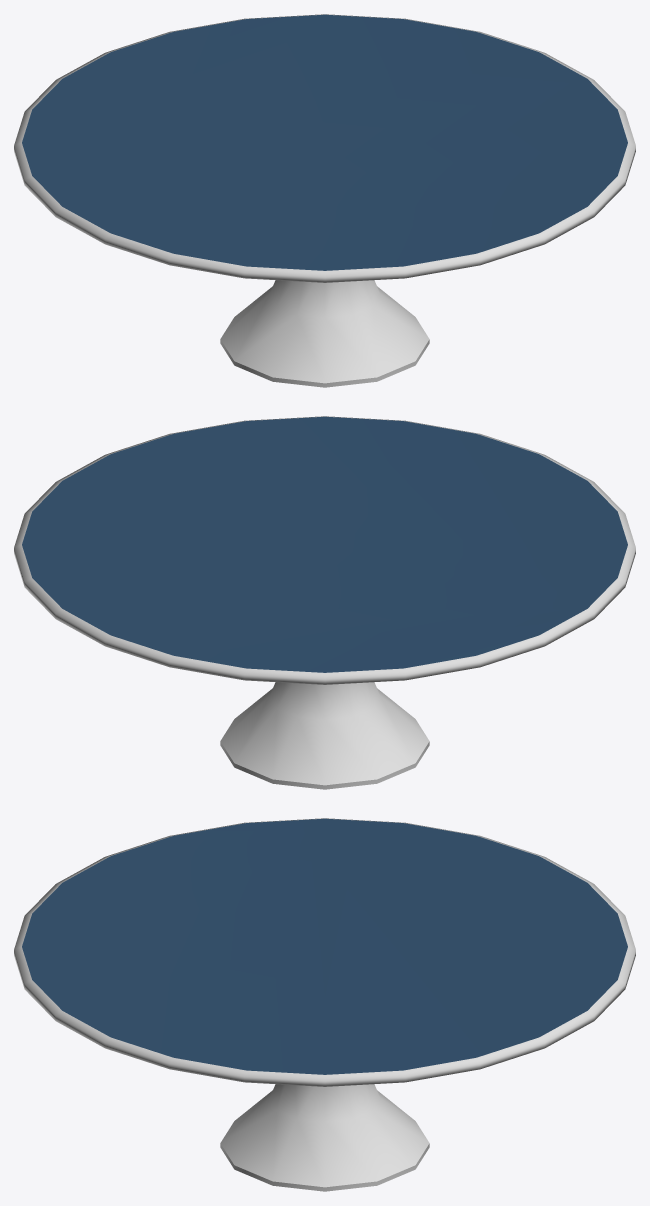
File: Table Circle.fbx
The picture shows the model from 3 angles, top to bottom: view 1: azimuth 30°, elevation 25°; view 2: azimuth 150°, elevation 25°; view 3: azimuth 270°, elevation 25°; orthographic projection.
Parts seen in each view (by area): view 1: Table Circle Superior, Table Circle Base; view 2: Table Circle Superior, Table Circle Base; view 3: Table Circle Superior, Table Circle Base.
Boxes of the visible parts, x1=… form: Table Circle Superior: x1=22, y1=14, x2=627, y2=270; Table Circle Base: x1=14, y1=14, x2=635, y2=387; Table Circle Superior: x1=22, y1=416, x2=627, y2=672; Table Circle Base: x1=14, y1=416, x2=635, y2=789; Table Circle Superior: x1=22, y1=818, x2=627, y2=1074; Table Circle Base: x1=14, y1=818, x2=635, y2=1191.
Bounding box in the file's own units: 127 × 45.18 × 127.
